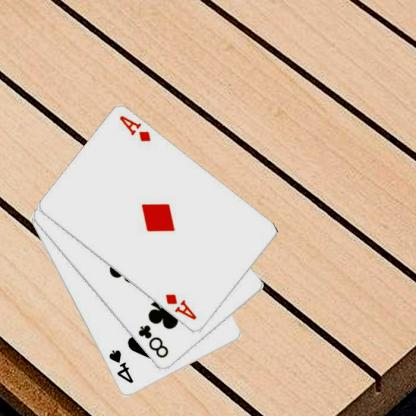4S: (108, 348, 136, 385)
8C: (136, 322, 172, 360)
AD: (164, 291, 200, 322), (118, 113, 154, 144)
